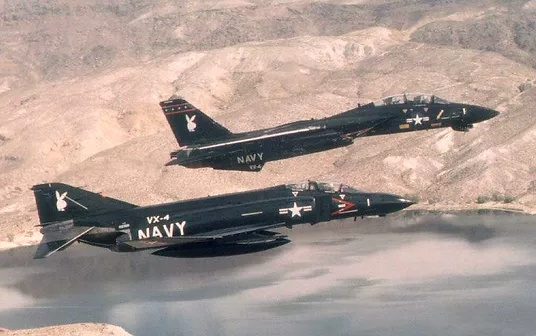F14: (158, 92, 504, 172)
F4: (31, 179, 417, 260)
